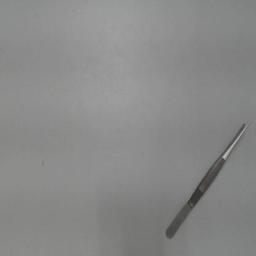Gillies Toothed Dissector: (160, 116, 252, 242)
